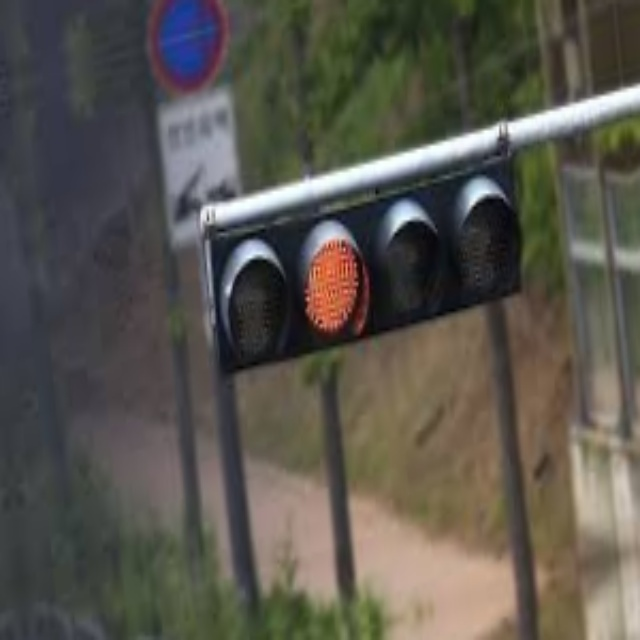yellow_light: (299, 239, 365, 344)
